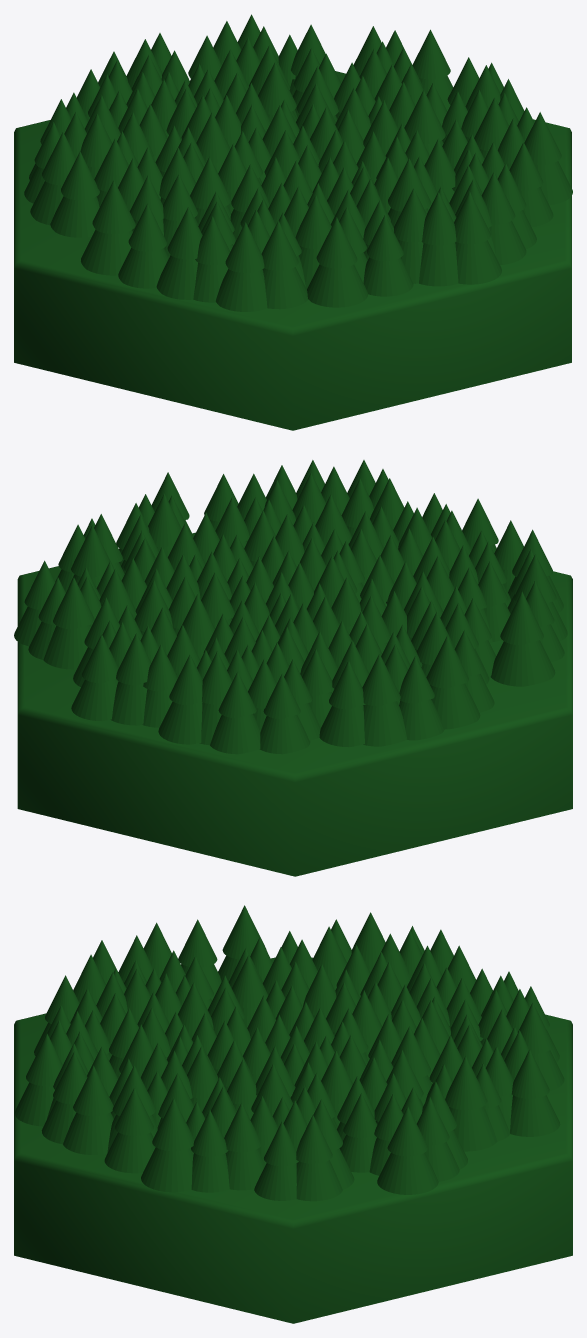
Rendered from boreal_full.glb.
The picture shows the model from 3 angles, top to bottom: view 1: azimuth 30°, elevation 25°; view 2: azimuth 150°, elevation 25°; view 3: azimuth 270°, elevation 25°; orthographic projection.
Parts seen in each view (by area): view 1: Dark_Grass_Full; view 2: Dark_Grass_Full; view 3: Dark_Grass_Full.
Part boxes in pixels (bbox=[...]): Dark_Grass_Full: bbox=[14, 14, 572, 430]; Dark_Grass_Full: bbox=[14, 460, 572, 876]; Dark_Grass_Full: bbox=[14, 905, 572, 1323].
Size of the model in its own units: 1.16 by 0.3644 by 1.
